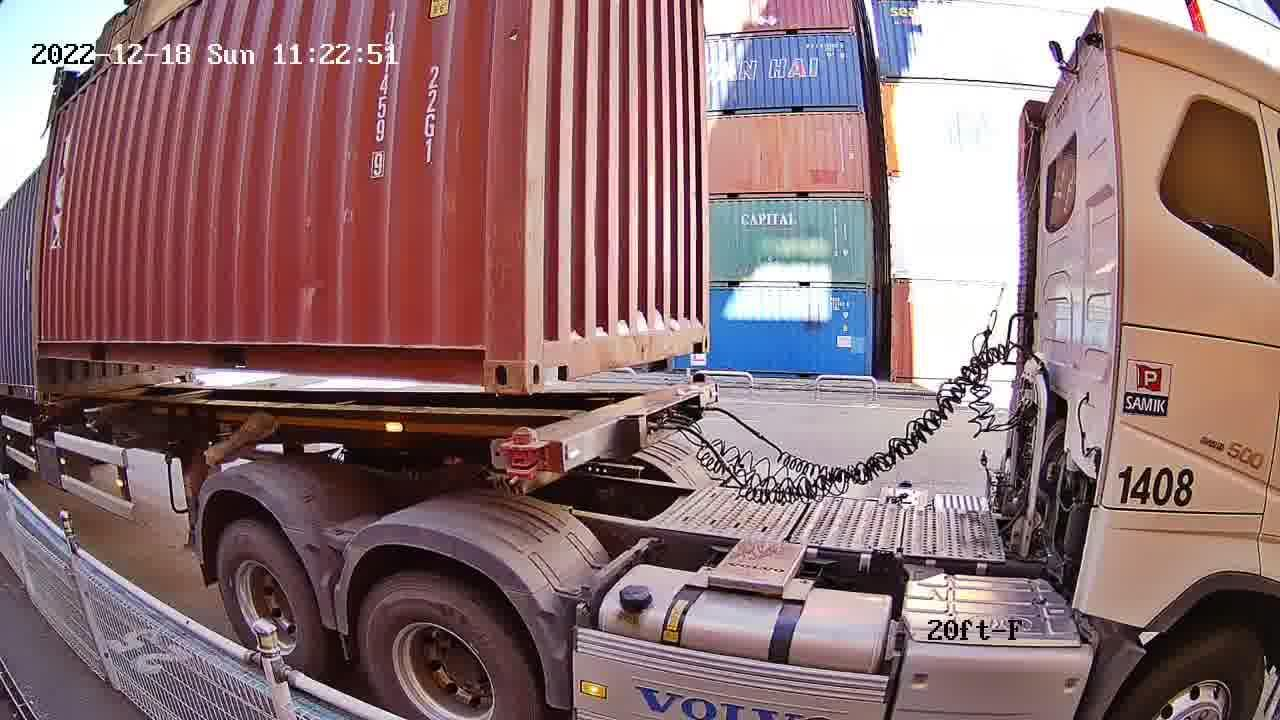Chassis: (504, 382, 718, 473)
Cone: (503, 427, 545, 486)
Hole_L: (525, 331, 572, 394)
Hole_R: (453, 330, 526, 393), (687, 314, 711, 354)
Tire: (356, 576, 538, 719), (217, 525, 319, 671)
